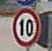limite 10: (11, 8, 40, 46)
